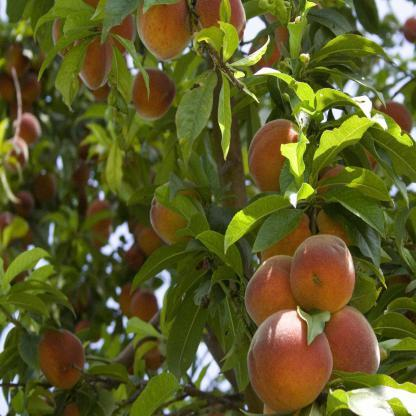Peach leaf: (308, 113, 386, 186), (222, 194, 289, 254), (328, 203, 381, 271), (322, 186, 388, 236), (163, 306, 206, 382), (315, 164, 395, 202), (129, 242, 187, 292), (310, 34, 394, 64), (252, 208, 304, 254), (197, 230, 243, 278), (214, 81, 233, 162), (228, 36, 271, 67), (218, 18, 238, 67)
